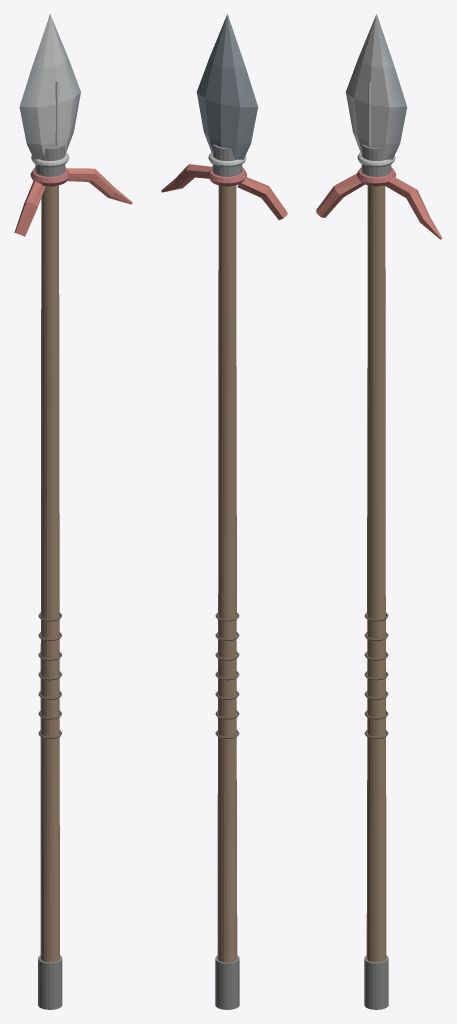
Rendered from speer.glb.
3 renders of one model, left to right at view 1: azimuth 30°, elevation 25°; view 2: azimuth 150°, elevation 25°; view 3: azimuth 330°, elevation 25°, orthographic.
Parts seen in each view (by area): view 1: speer; view 2: speer; view 3: speer.
Part boxes in pixels (x1,y1,x2,y2): speer: (14, 14, 132, 1009); speer: (161, 14, 287, 1009); speer: (316, 14, 442, 1009).
Size of the model in its own units: 0.2057 by 1.6 by 0.0736.
